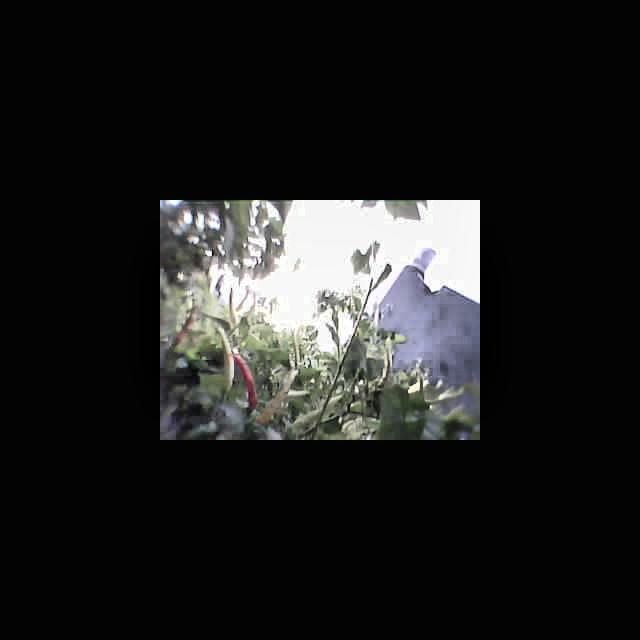Cabai: (237, 357, 262, 415), (179, 310, 194, 345)
